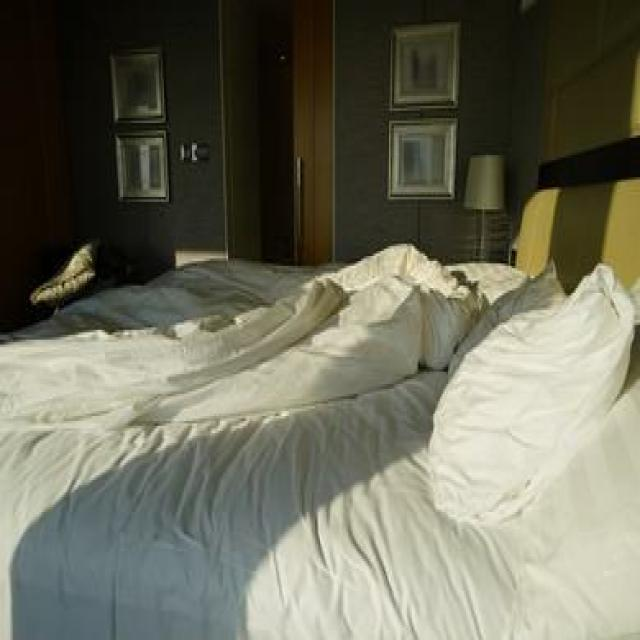bed: (19, 178, 633, 633)
